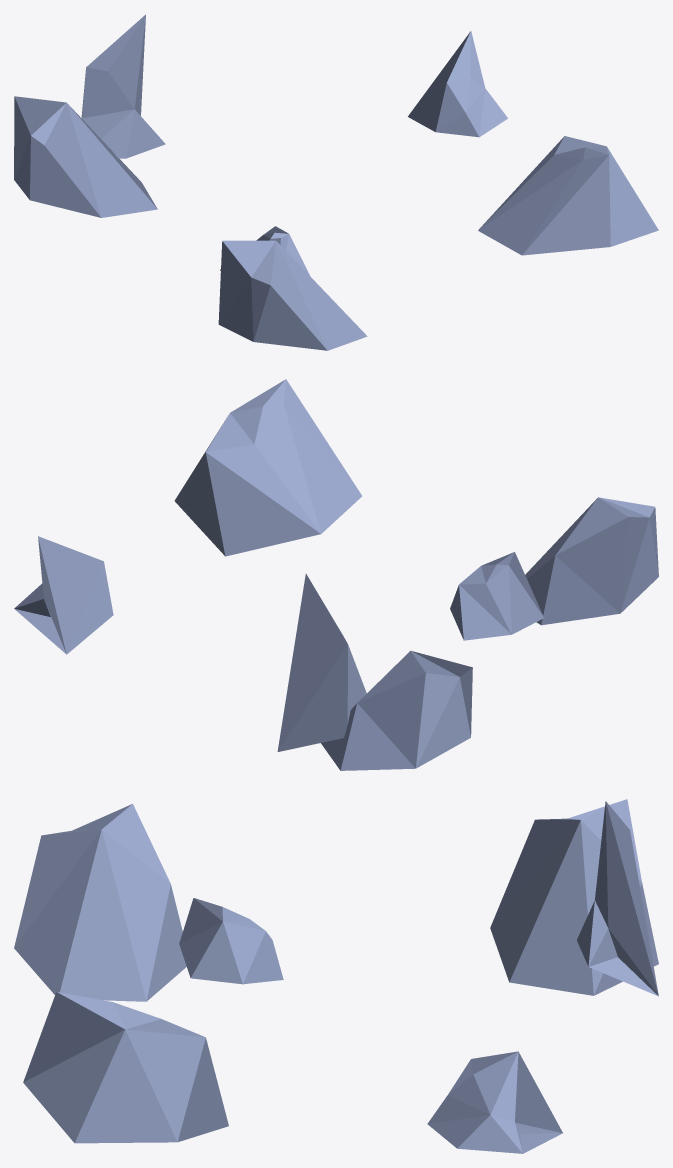
The model's file is plane_ice_rock03.FBX.
The picture shows the model from 3 angles, top to bottom: view 1: azimuth 30°, elevation 25°; view 2: azimuth 150°, elevation 25°; view 3: azimuth 270°, elevation 25°; orthographic projection. The views are drawn at different scales.
Parts seen in each view (by area): view 1: rock005; view 2: rock005; view 3: rock005.
Part boxes in pixels (box(x1,y1,x2,y2)): rock005: box(14, 14, 658, 350); rock005: box(14, 379, 658, 770); rock005: box(14, 799, 658, 1153).
Bounding box in the file's own units: 30.76 × 10.67 × 31.08.
